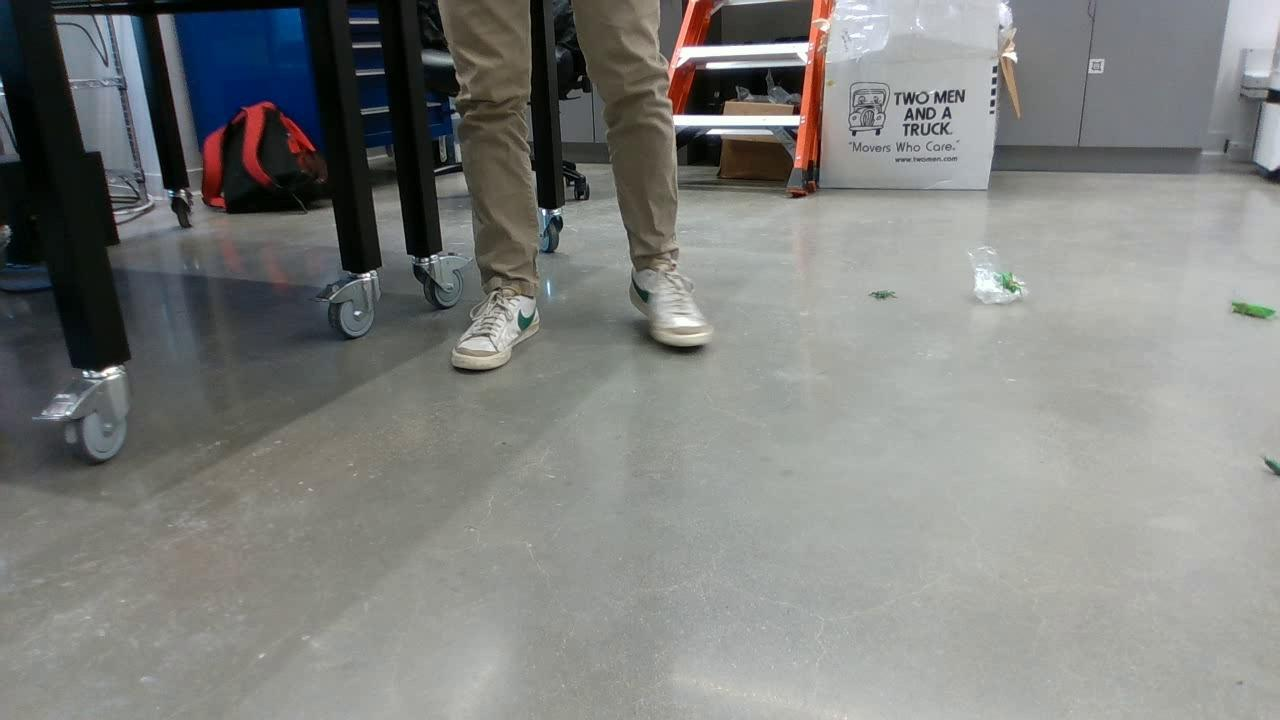grasshopper: (1227, 300, 1277, 319), (996, 270, 1025, 295)
